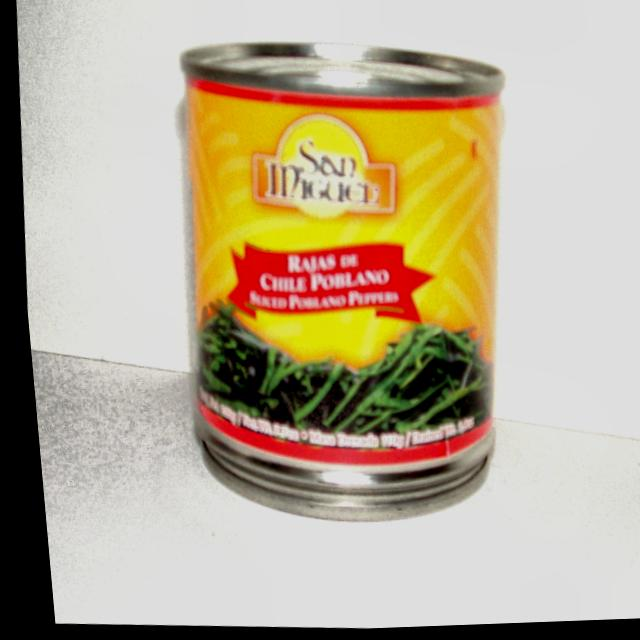Cans: (139, 20, 544, 547)
